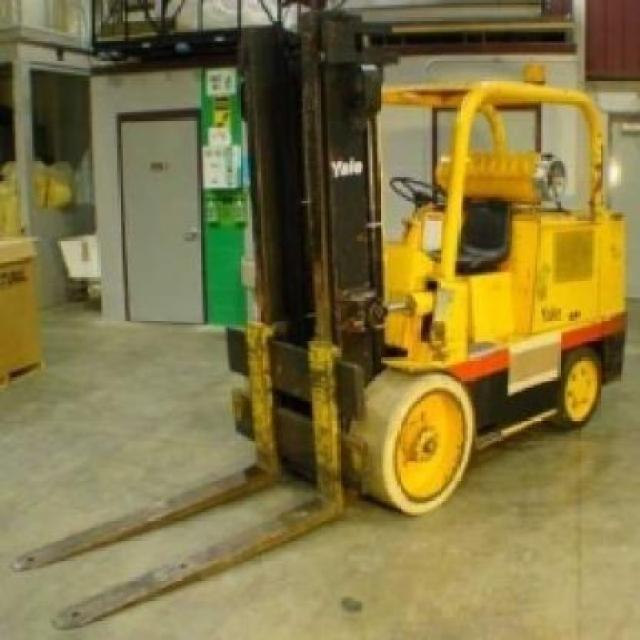forklift: (218, 10, 626, 515)
